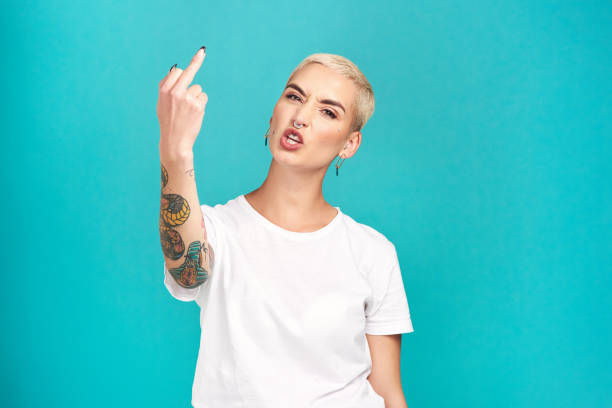insulting_gesture: (157, 42, 205, 161)
